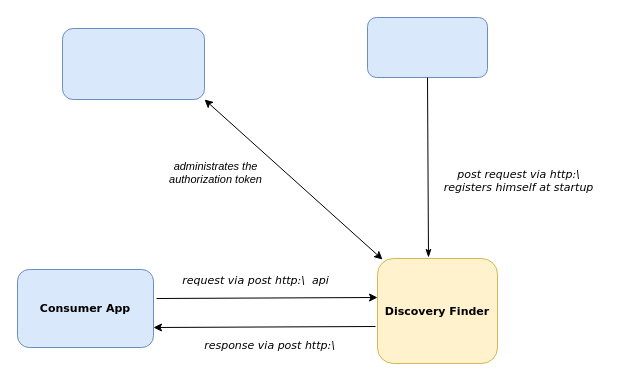
This 626x381 diagram has some shape labels left out. The centre of each missing label's shape, as x and y in pixels:
"BPN Discovery" goes at (427,47).
"Keycloak" goes at (133,64).
